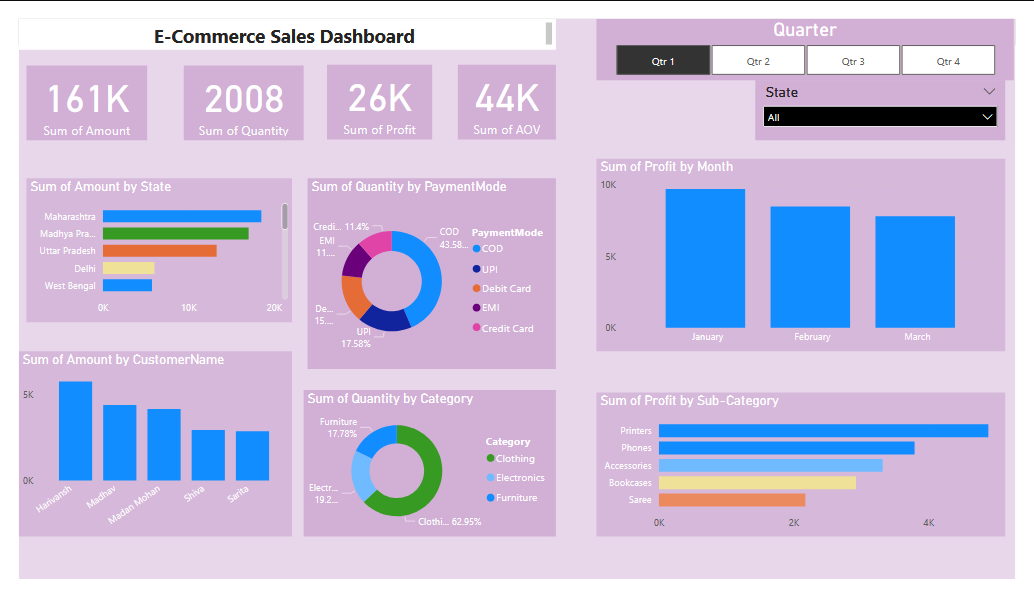

What the dashboard file says about the page in this screenshot:
{"tool":"powerbi","page":{"name":"Page 1","canvas":[1280,720],"ordinal":0},"visuals":[{"type":"textbox","box":[0,0,690.4,40.3],"z":0},{"type":"columnChart","fields":{"Category":["Orders[1].Order Date.Variation.Date Hierarchy.Month"],"Y":["Details[1].Profit"]},"box":[742.5,179.7,524.1,246.9],"z":1000},{"type":"barChart","fields":{"Category":["Details[1].Sub-Category"],"Y":["Details[1].Profit"]},"box":[742.5,480.4,524.1,184.8],"z":2000},{"type":"donutChart","fields":{"Category":["Details[1].Category"],"Y":["Details[1].Quantity"]},"box":[366.2,477.1,324.2,188.1],"z":3000},{"type":"donutChart","fields":{"Category":["Details[1].PaymentMode"],"Y":["Details[1].Quantity"]},"box":[371.2,204.9,319.2,245.2],"z":4000},{"type":"card","fields":{"Values":["Details[1].Amount"]},"box":[10.1,60.5,154.5,95.7],"z":5000},{"type":"card","fields":{"Values":["Details[1].Quantity"]},"box":[211.7,60.5,154.5,95.7],"z":6000},{"type":"card","fields":{"Values":["Details[1].Profit"]},"box":[396.4,58.8,134.4,95.7],"z":7000},{"type":"card","fields":{"Values":["Details[1].AOV"]},"box":[564.4,58.8,126,95.7],"z":8000},{"type":"barChart","fields":{"Category":["Orders[1].State"],"Y":["Details[1].Amount"]},"box":[10.1,204.9,341,184.8],"z":9000},{"type":"columnChart","fields":{"Category":["Orders[1].CustomerName"],"Y":["Details[1].Amount"]},"box":[0,426.7,351.1,238.5],"z":10000},{"type":"slicer","title":"Quarter","fields":{"Values":["Orders[1].Order Date.Variation.Date Hierarchy.Quarter"]},"box":[742.5,0,535.9,79],"z":11000},{"type":"slicer","title":"state","fields":{"Values":["Orders[1].State"]},"box":[945.7,79,320.8,77.3],"z":12000}]}

Visuals, with their boxes on the page's 1280x720 design canvas (x1, y1, x2, y2). These are canvas units, not pixel positions in the 1034x598 screenshot, which may show the page scaled, cropped or inside an application window:
textbox: {"left": 0, "top": 0, "right": 690, "bottom": 40}
columnChart - Orders[1].Order Date.Variation.Date Hierarchy.Month x Details[1].Profit: {"left": 742, "top": 180, "right": 1267, "bottom": 427}
barChart - Details[1].Sub-Category x Details[1].Profit: {"left": 742, "top": 480, "right": 1267, "bottom": 665}
donutChart - Details[1].Category x Details[1].Quantity: {"left": 366, "top": 477, "right": 690, "bottom": 665}
donutChart - Details[1].PaymentMode x Details[1].Quantity: {"left": 371, "top": 205, "right": 690, "bottom": 450}
card - Details[1].Amount: {"left": 10, "top": 60, "right": 165, "bottom": 156}
card - Details[1].Quantity: {"left": 212, "top": 60, "right": 366, "bottom": 156}
card - Details[1].Profit: {"left": 396, "top": 59, "right": 531, "bottom": 154}
card - Details[1].AOV: {"left": 564, "top": 59, "right": 690, "bottom": 154}
barChart - Orders[1].State x Details[1].Amount: {"left": 10, "top": 205, "right": 351, "bottom": 390}
columnChart - Orders[1].CustomerName x Details[1].Amount: {"left": 0, "top": 427, "right": 351, "bottom": 665}
"Quarter" slicer: {"left": 742, "top": 0, "right": 1278, "bottom": 79}
"state" slicer: {"left": 946, "top": 79, "right": 1266, "bottom": 156}
